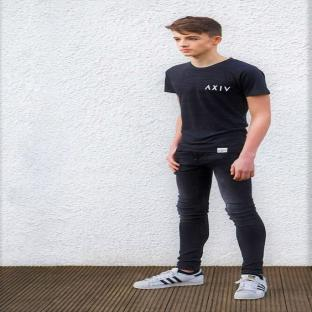Human: (135, 17, 270, 299)
